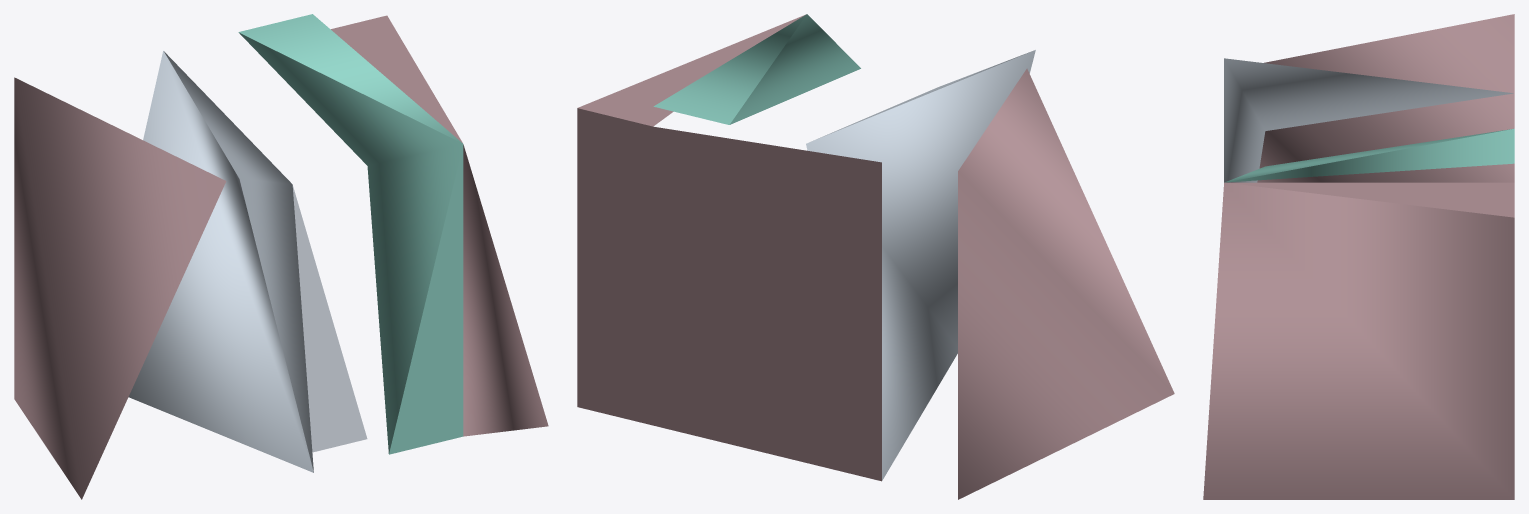
Rendered from books.glb.
The picture shows the model from 3 angles, left to right: view 1: azimuth 30°, elevation 25°; view 2: azimuth 150°, elevation 25°; view 3: azimuth 270°, elevation 25°; orthographic projection. The views are drawn at different scales.
Parts seen in each view (by area): view 1: books(Clone); view 2: books(Clone); view 3: books(Clone).
Boxes of the visible parts, left/top/right/bottom form: books(Clone): left=14, top=14, right=548, bottom=499; books(Clone): left=577, top=14, right=1174, bottom=499; books(Clone): left=1203, top=14, right=1514, bottom=499.
Bounding box in the file's own units: 0.1504 × 0.1039 × 0.0945.
